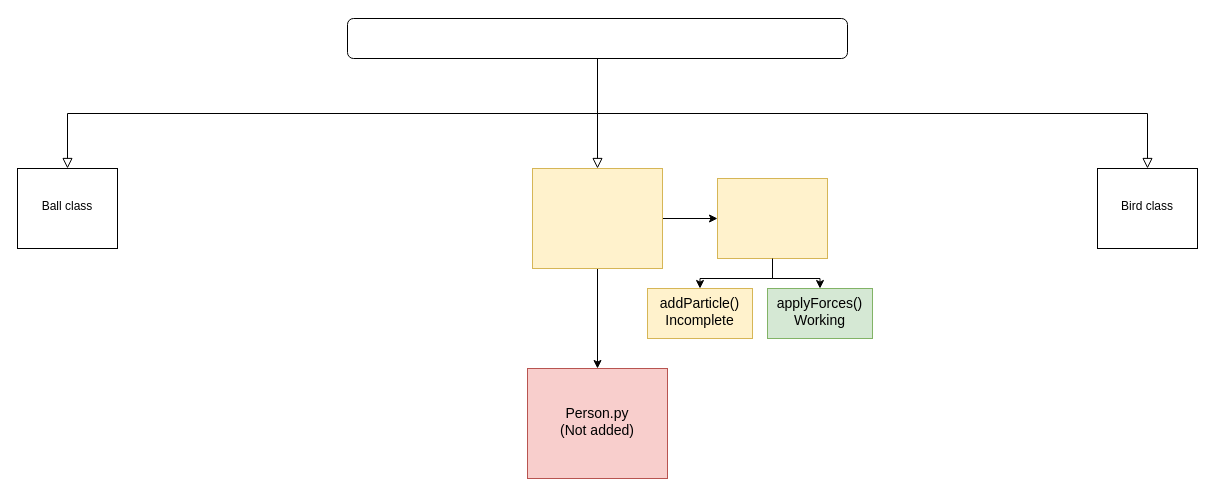
This 1215x496 diagram has some shape labels left out. The shapes that lost their labels are listed below. From the top down, each one's box as (x1, y1, x2, y2) in pixels, then its label:
(346, 18, 848, 58): Parent A6 class
(532, 168, 662, 268): Generic Particle System Class (Particle.py) (Incomplete)
(716, 178, 828, 258): Generic Particle Class (Particle.py)
